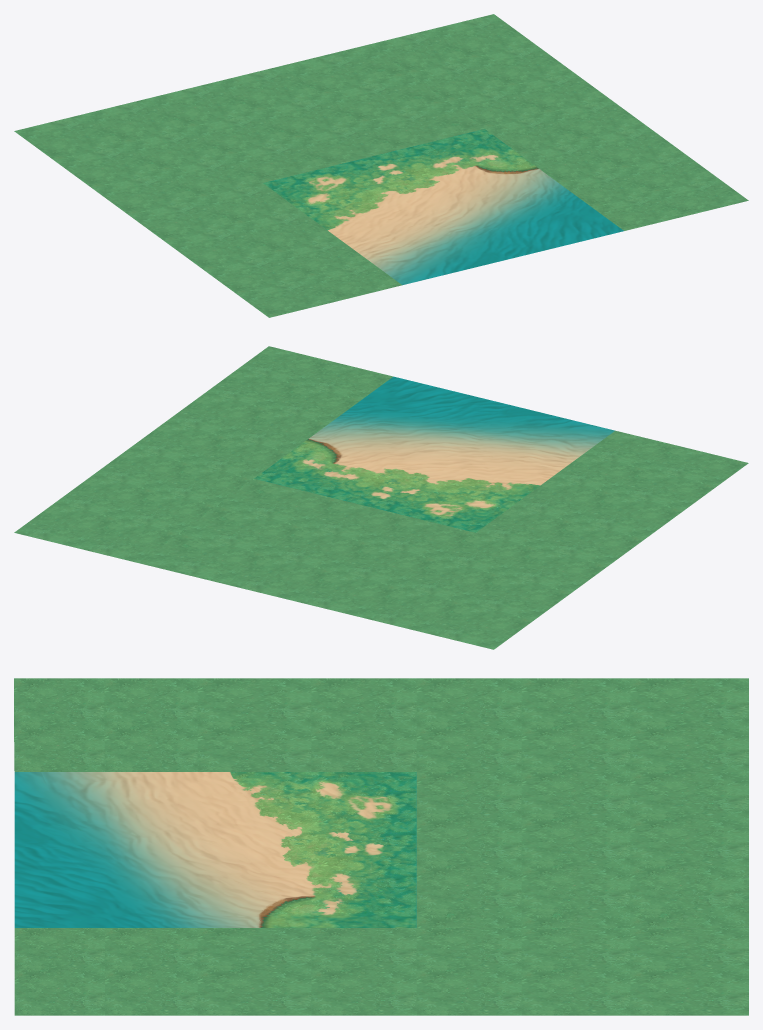
The model's file is Beach_land_01.fbx.
3 views of the same model, one above another, from view 1: azimuth 30°, elevation 25°; view 2: azimuth 150°, elevation 25°; view 3: azimuth 270°, elevation 25° (orthographic). The views are drawn at different scales.
Parts seen in each view (by area): view 1: Beach_land_01; view 2: Beach_land_01; view 3: Beach_land_01.
Part boxes in pixels (x1,y1,x2,y2): Beach_land_01: (14,14,748,317); Beach_land_01: (14,346,748,649); Beach_land_01: (14,678,748,1015).
Bounding box in the file's own units: 4183 × 4.77e-07 × 3852.
